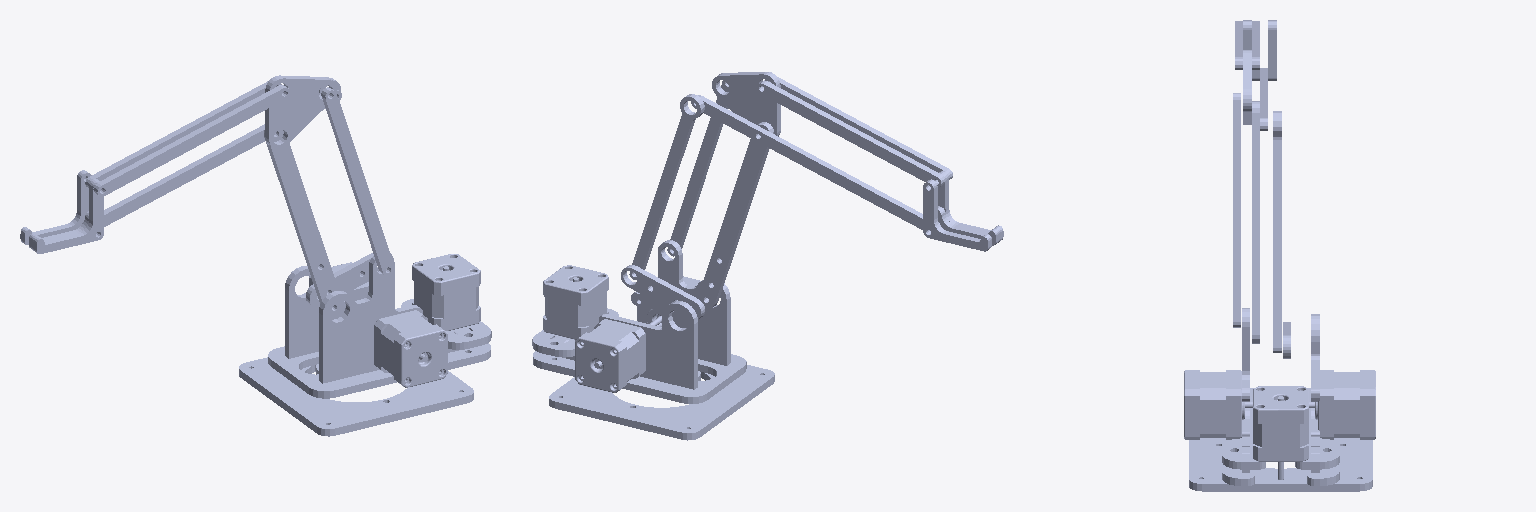
The robot description file, URDF, robot "taa":
<?xml version="1.0" encoding="utf-8"?>
<!-- This URDF was automatically created by SolidWorks to URDF Exporter! Originally created by [author] ([email redacted]) 
     Commit Version: 1.6.0-1-g15f4949  Build Version: 1.6.7594.29634
     For more information, please see http://wiki.ros.org/sw_urdf_exporter -->
<robot
  name="taa">
  <link
    name="base_link">
    <inertial>
      <origin
        xyz="-4.60357942910706E-18 -3.09949606639131E-18 0.003175"
        rpy="0 0 0" />
      <mass
        value="0.0871435086609644" />
      <inertia
        ixx="0.000182946878943211"
        ixy="2.9778502051909E-20"
        ixz="-2.35338269561785E-22"
        iyy="0.000183497723835596"
        iyz="1.04433440382441E-20"
        izz="0.00036585896209081" />
    </inertial>
    <visual>
      <origin
        xyz="0 0 0"
        rpy="0 0 0" />
      <geometry>
        <mesh
          filename="package://taa/meshes/base_link.STL" />
      </geometry>
      <material
        name="">
        <color
          rgba="0.792156862745098 0.819607843137255 0.933333333333333 1" />
      </material>
    </visual>
    <collision>
      <origin
        xyz="0 0 0"
        rpy="0 0 0" />
      <geometry>
        <mesh
          filename="package://taa/meshes/base_link.STL" />
      </geometry>
    </collision>
  </link>
  <link
    name="motorPlatform">
    <inertial>
      <origin
        xyz="0.000539212630490583 -0.0384489243191982 0.0377417169418289"
        rpy="0 0 0" />
      <mass
        value="1.91719435403581" />
      <inertia
        ixx="0.000678568675530656"
        ixy="2.75309484526873E-10"
        ixz="-2.41425206448647E-09"
        iyy="0.000647749773509679"
        iyz="-2.02479236759882E-05"
        izz="0.000413494664172736" />
    </inertial>
    <visual>
      <origin
        xyz="0 0 0"
        rpy="0 0 0" />
      <geometry>
        <mesh
          filename="package://taa/meshes/motorPlatform.STL" />
      </geometry>
      <material
        name="">
        <color
          rgba="0.792156862745098 0.819607843137255 0.933333333333333 1" />
      </material>
    </visual>
    <collision>
      <origin
        xyz="0 0 0"
        rpy="0 0 0" />
      <geometry>
        <mesh
          filename="package://taa/meshes/motorPlatform.STL" />
      </geometry>
    </collision>
  </link>
  <joint
    name="base_axis1_joint"
    type="continuous">
    <origin
      xyz="0 0 0.013"
      rpy="-1.5708 0 -1.5708" />
    <parent
      link="base_link" />
    <child
      link="motorPlatform" />
    <axis
      xyz="0 -1 0" />
    <limit
      lower="0"
      upper="0"
      effort="0"
      velocity="0" />
  </joint>
  <link
    name="link3">
    <inertial>
      <origin
        xyz="0.0271170340705895 2.58543186859583E-13 -0.003175"
        rpy="0 0 0" />
      <mass
        value="0.0072569822670059" />
      <inertia
        ixx="2.32785455243617E-07"
        ixy="-2.59665560042441E-17"
        ixz="-1.79242388006757E-22"
        iyy="2.95802503019819E-06"
        iyz="-9.68951514813645E-25"
        izz="3.14204054086491E-06" />
    </inertial>
    <visual>
      <origin
        xyz="0 0 0"
        rpy="0 0 0" />
      <geometry>
        <mesh
          filename="package://taa/meshes/link3.STL" />
      </geometry>
      <material
        name="">
        <color
          rgba="0.792156862745098 0.819607843137255 0.933333333333333 1" />
      </material>
    </visual>
    <collision>
      <origin
        xyz="0 0 0"
        rpy="0 0 0" />
      <geometry>
        <mesh
          filename="package://taa/meshes/link3.STL" />
      </geometry>
    </collision>
  </link>
  <joint
    name="base_link3_joint"
    type="continuous">
    <origin
      xyz="-0.001375 -0.0713 -0.0325"
      rpy="-1.5708 -1.2993 -1.5708" />
    <parent
      link="motorPlatform" />
    <child
      link="link3" />
    <axis
      xyz="0 0 1" />
  </joint>
  <link
    name="link4">
    <inertial>
      <origin
        xyz="-1.01802594132394E-12 0.0883880686791272 0.00317500000000002"
        rpy="0 0 0" />
      <mass
        value="0.0114748465412621" />
      <inertia
        ixx="3.14098814414628E-05"
        ixy="3.59640468377617E-16"
        ixz="5.744453050605E-23"
        iyy="1.66279150653436E-07"
        iyz="2.66836878931848E-21"
        izz="3.14990448421729E-05" />
    </inertial>
    <visual>
      <origin
        xyz="0 0 0"
        rpy="0 0 0" />
      <geometry>
        <mesh
          filename="package://taa/meshes/link4.STL" />
      </geometry>
      <material
        name="">
        <color
          rgba="0.792156862745098 0.819607843137255 0.933333333333333 1" />
      </material>
    </visual>
    <collision>
      <origin
        xyz="0 0 0"
        rpy="0 0 0" />
      <geometry>
        <mesh
          filename="package://taa/meshes/link4.STL" />
      </geometry>
    </collision>
  </link>
  <joint
    name="link3_link4_joint"
    type="continuous">
    <origin
      xyz="0.06 0 0.00089"
      rpy="0 0 0.041463" />
    <parent
      link="link3" />
    <child
      link="link4" />
    <axis
      xyz="0 0 1" />
    <limit
      lower="0"
      upper="0"
      effort="0"
      velocity="0" />
  </joint>
  <link
    name="link1">
    <inertial>
      <origin
        xyz="-1.01423383580546E-12 0.0857943719097374 0.00317499999999999"
        rpy="0 0 0" />
      <mass
        value="0.0180500154206615" />
      <inertia
        ixx="4.89619755513742E-05"
        ixy="5.58417336321924E-16"
        ixz="-8.39982042626506E-24"
        iyy="4.48769775397092E-07"
        iyz="4.42936288621252E-21"
        izz="4.92894417023046E-05" />
    </inertial>
    <visual>
      <origin
        xyz="0 0 0"
        rpy="0 0 0" />
      <geometry>
        <mesh
          filename="package://taa/meshes/link1.STL" />
      </geometry>
      <material
        name="">
        <color
          rgba="0.792156862745098 0.819607843137255 0.933333333333333 1" />
      </material>
    </visual>
    <collision>
      <origin
        xyz="0 0 0"
        rpy="0 0 0" />
      <geometry>
        <mesh
          filename="package://taa/meshes/link1.STL" />
      </geometry>
    </collision>
  </link>
  <joint
    name="base_link1_joint"
    type="continuous">
    <origin
      xyz="0.015925 -0.0713 -0.0325"
      rpy="-1.5708 -1.2578 -1.5708" />
    <parent
      link="motorPlatform" />
    <child
      link="link1" />
    <axis
      xyz="0 0 1" />
    <limit
      lower="0"
      upper="0"
      effort="0"
      velocity="0" />
  </joint>
  <link
    name="triLink">
    <inertial>
      <origin
        xyz="0.0140398535675026 0.0226703024247618 0.00317500000000042"
        rpy="0 0 0" />
      <mass
        value="0.0133478600838276" />
      <inertia
        ixx="2.53957651300294E-06"
        ixy="-5.12885658199425E-07"
        ixz="8.09497462489793E-21"
        iyy="3.00118819824708E-06"
        iyz="1.4648780358395E-21"
        izz="5.45106152987833E-06" />
    </inertial>
    <visual>
      <origin
        xyz="0 0 0"
        rpy="0 0 0" />
      <geometry>
        <mesh
          filename="package://taa/meshes/triLink.STL" />
      </geometry>
      <material
        name="">
        <color
          rgba="0.792156862745098 0.819607843137255 0.933333333333333 1" />
      </material>
    </visual>
    <collision>
      <origin
        xyz="0 0 0"
        rpy="0 0 0" />
      <geometry>
        <mesh
          filename="package://taa/meshes/triLink.STL" />
      </geometry>
    </collision>
  </link>
  <joint
    name="link1_trilink_joint"
    type="continuous">
    <origin
      xyz="0 0.17 0.00635"
      rpy="0 0 -0.31665" />
    <parent
      link="link1" />
    <child
      link="triLink" />
    <axis
      xyz="0 0 1" />
  </joint>
  <link
    name="link5">
    <inertial>
      <origin
        xyz="-0.0850000000021776 -1.04488639962597E-12 0.00317499999999818"
        rpy="0 0 0" />
      <mass
        value="0.0220887278337574" />
      <inertia
        ixx="2.59594229688112E-07"
        ixy="-6.30345435291403E-16"
        ixz="-6.25450730027275E-21"
        iyy="5.60387361619186E-05"
        iyz="-1.85835206326224E-23"
        izz="5.61498849369272E-05" />
    </inertial>
    <visual>
      <origin
        xyz="0 0 0"
        rpy="0 0 0" />
      <geometry>
        <mesh
          filename="package://taa/meshes/link5.STL" />
      </geometry>
      <material
        name="">
        <color
          rgba="0.792156862745098 0.819607843137255 0.933333333333333 1" />
      </material>
    </visual>
    <collision>
      <origin
        xyz="0 0 0"
        rpy="0 0 0" />
      <geometry>
        <mesh
          filename="package://taa/meshes/link5.STL" />
      </geometry>
    </collision>
  </link>
  <joint
    name="tri_link5_joint"
    type="continuous">
    <origin
      xyz="0 0.04 0"
      rpy="0 0 0.27518" />
    <parent
      link="triLink" />
    <child
      link="link5" />
    <axis
      xyz="0 0 1" />
  </joint>
  <link
    name="endLink">
    <inertial>
      <origin
        xyz="-0.0167584422082046 0.00772282400330307 0.0135077011378914"
        rpy="0 0 0" />
      <mass
        value="0.0146066153135148" />
      <inertia
        ixx="2.30843423990826E-06"
        ixy="-1.82925554964206E-06"
        ixz="-2.88046377423338E-21"
        iyy="5.45760247133386E-06"
        iyz="-1.31466634098144E-21"
        izz="7.66787417024559E-06" />
    </inertial>
    <visual>
      <origin
        xyz="0 -0.04 0"
        rpy="0 0 0" />
      <geometry>
        <mesh
          filename="package://taa/meshes/endLink.STL" />
      </geometry>
      <material
        name="">
        <color
          rgba="0.792156862745098 0.819607843137255 0.933333333333333 1" />
      </material>
    </visual>
    <collision>
      <origin
        xyz="0 0 0"
        rpy="0 0 0" />
      <geometry>
        <mesh
          filename="package://taa/meshes/endLink.STL" />
      </geometry>
    </collision>
  </link>
  <joint
    name="link5_end_joint"
    type="continuous">
    <origin
      xyz="-0.17 0 -0.01905"
      rpy="0 0 -0.27518" />
    <parent
      link="link5" />
    <child
      link="endLink" />
    <axis
      xyz="0 0 1" />
    <limit
      lower="0"
      upper="0"
      effort="0"
      velocity="0" />
  </joint>
  <link
    name="link2">
    <inertial>
      <origin
        xyz="-0.0554655570808423 -4.34596802989518E-13 -0.00317500000000072"
        rpy="0 0 0" />
      <mass
        value="0.0147296819584394" />
      <inertia
        ixx="1.73735735678232E-07"
        ixy="-4.6267775485042E-16"
        ixz="-9.84802284449009E-21"
        iyy="6.75966347175227E-05"
        iyz="-5.08502339473337E-23"
        izz="6.76713808530727E-05" />
    </inertial>
    <visual>
      <origin
        xyz="0 0 0"
        rpy="0 0 0" />
      <geometry>
        <mesh
          filename="package://taa/meshes/link2.STL" />
      </geometry>
      <material
        name="">
        <color
          rgba="0.792156862745098 0.819607843137255 0.933333333333333 1" />
      </material>
    </visual>
    <collision>
      <origin
        xyz="0 0 0"
        rpy="0 0 0" />
      <geometry>
        <mesh
          filename="package://taa/meshes/link2.STL" />
      </geometry>
    </collision>
  </link>
  <joint
    name="tri_link2_joint"
    type="continuous">
    <origin
      xyz="0 0 -0.00635"
      rpy="0 0 0.27518" />
    <parent
      link="triLink" />
    <child
      link="link2" />
    <axis
      xyz="0 0 1" />
  </joint>
  <link
    name="link6">
    <inertial>
      <origin
        xyz="3.6574909767495E-14 0.0849999999999874 0.00317500000000001"
        rpy="0 0 0" />
      <mass
        value="0.0110443639168787" />
      <inertia
        ixx="2.80193680809593E-05"
        ixy="-1.4632427989369E-18"
        ixz="-3.00139769644244E-23"
        iyy="1.29797114844053E-07"
        iyz="4.52126135034334E-21"
        izz="2.80749424684636E-05" />
    </inertial>
    <visual>
      <origin
        xyz="0 0 0"
        rpy="0 0 0" />
      <geometry>
        <mesh
          filename="package://taa/meshes/link6.STL" />
      </geometry>
      <material
        name="">
        <color
          rgba="0.792156862745098 0.819607843137255 0.933333333333333 1" />
      </material>
    </visual>
    <collision>
      <origin
        xyz="0 0 0"
        rpy="0 0 0" />
      <geometry>
        <mesh
          filename="package://taa/meshes/link6.STL" />
      </geometry>
    </collision>
  </link>
  <joint
    name="base_link6_joint"
    type="continuous">
    <origin
      xyz="0.030415 -0.10036 0.0075"
      rpy="-1.5708 -1.2613 -1.5708" />
    <parent
      link="motorPlatform" />
    <child
      link="link6" />
    <axis
      xyz="0 0 1" />
  </joint>
</robot>

--- Render facts (derived) ---
3 views of the same robot in one strip: view 1: azimuth 30°, elevation 25°; view 2: azimuth 150°, elevation 25°; view 3: azimuth 270°, elevation 25° (orthographic).
Robot: taa — 10 links, 9 joints (9 continuous); root link base_link; default pose: all joints at 0.
Links seen in each view (by area): view 1: motorPlatform, base_link, link5, link1, triLink, link6, endLink, link2, link3; view 2: motorPlatform, base_link, link5, link1, link2, endLink, link4, triLink, link6, link3; view 3: motorPlatform, base_link, link4, link1, link6, endLink, link5, triLink.
Link boxes in pixels (x1=…): motorPlatform: x1=268, y1=254, x2=491, y2=398; base_link: x1=239, y1=357, x2=473, y2=436; link5: x1=85, y1=81, x2=289, y2=196; link1: x1=264, y1=130, x2=342, y2=317; triLink: x1=265, y1=75, x2=336, y2=148; link6: x1=321, y1=87, x2=393, y2=275; endLink: x1=20, y1=170, x2=103, y2=253; link2: x1=82, y1=90, x2=341, y2=226; link3: x1=306, y1=253, x2=393, y2=307; motorPlatform: x1=532, y1=240, x2=746, y2=403; base_link: x1=549, y1=365, x2=774, y2=440; link5: x1=757, y1=77, x2=952, y2=187; link1: x1=698, y1=122, x2=773, y2=308; link2: x1=691, y1=95, x2=940, y2=229; endLink: x1=923, y1=171, x2=1003, y2=251; link4: x1=629, y1=94, x2=704, y2=279; triLink: x1=712, y1=72, x2=780, y2=136; link6: x1=667, y1=81, x2=729, y2=256; link3: x1=621, y1=265, x2=704, y2=318; motorPlatform: x1=1184, y1=308, x2=1375, y2=485; base_link: x1=1189, y1=438, x2=1372, y2=491; link4: x1=1273, y1=111, x2=1281, y2=352; link1: x1=1252, y1=101, x2=1259, y2=343; link6: x1=1233, y1=93, x2=1240, y2=327; endLink: x1=1243, y1=20, x2=1276, y2=80; link5: x1=1235, y1=21, x2=1259, y2=69; triLink: x1=1243, y1=50, x2=1251, y2=124.
Size in the robot's own frame: 0.4064 by 0.1456 by 0.2963 metres.
10 mesh visuals loaded from 10 distinct referenced files (10 binary STL).